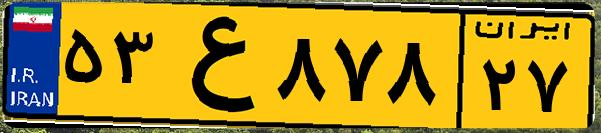2: (475, 38, 525, 113)
3: (110, 28, 158, 98)
5: (57, 26, 110, 100)
7: (330, 28, 385, 110), (525, 38, 570, 115)
8: (270, 28, 330, 110), (385, 28, 445, 110)
ع: (158, 12, 270, 120)
